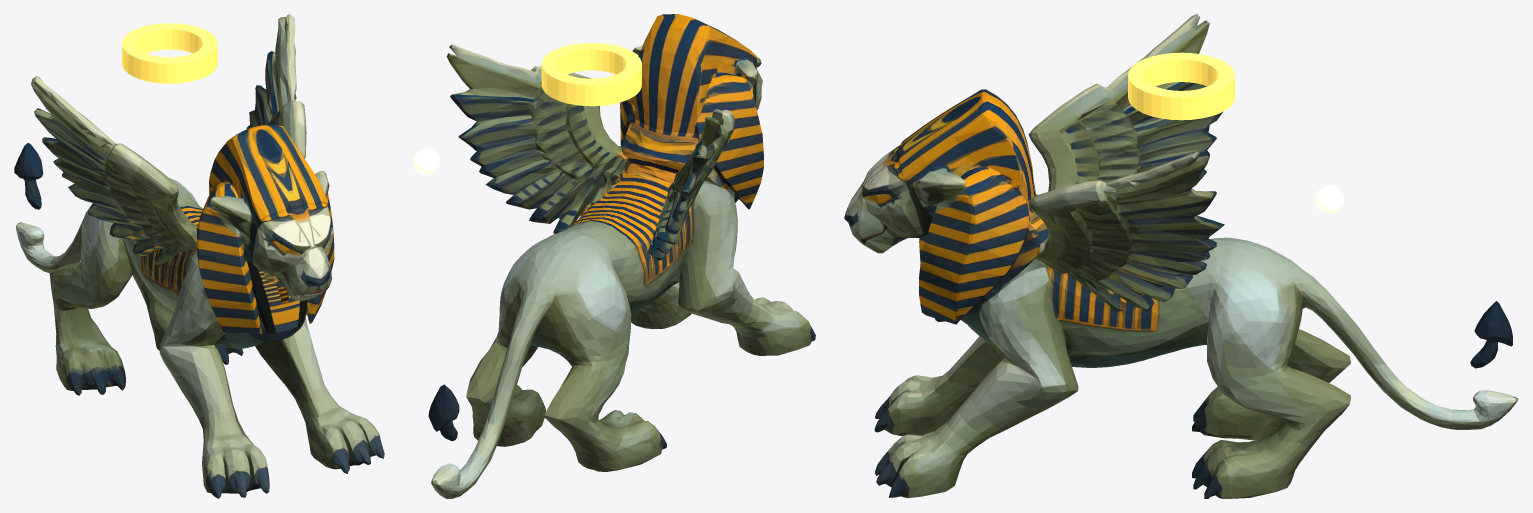
File: sphinx.glb
3 renders of one model, left to right at view 1: azimuth 30°, elevation 25°; view 2: azimuth 150°, elevation 25°; view 3: azimuth 270°, elevation 25°, orthographic. The views are drawn at different scales.
Parts seen in each view (by area): view 1: body, crown; view 2: body, crown, eye; view 3: body, crown.
Boxes of the visible parts, x1,y1,x2,y2 form: body: (14, 14, 384, 498); crown: (122, 23, 217, 83); body: (428, 14, 815, 498); crown: (541, 43, 641, 106); eye: (413, 148, 439, 174); body: (844, 14, 1518, 498); crown: (1128, 52, 1234, 120).
Size of the model in its own units: 0.9511 by 1.19 by 1.91.
3 materials, 1 textured.
